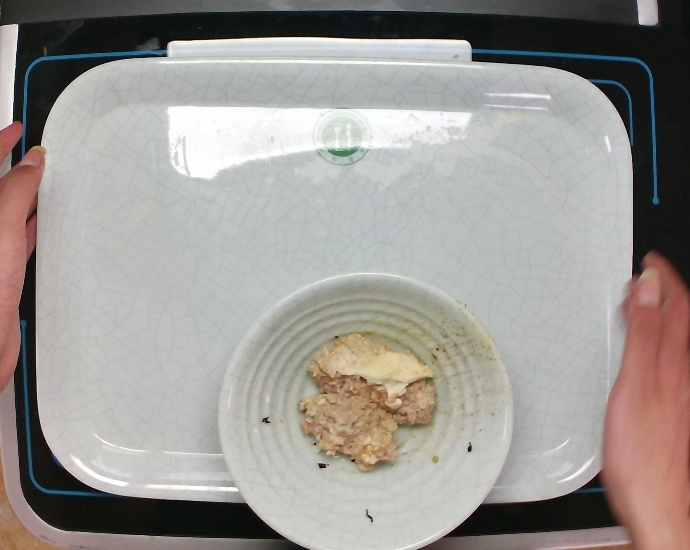JYsf-Xiao_Tang_Wan: (208, 245, 520, 550)
